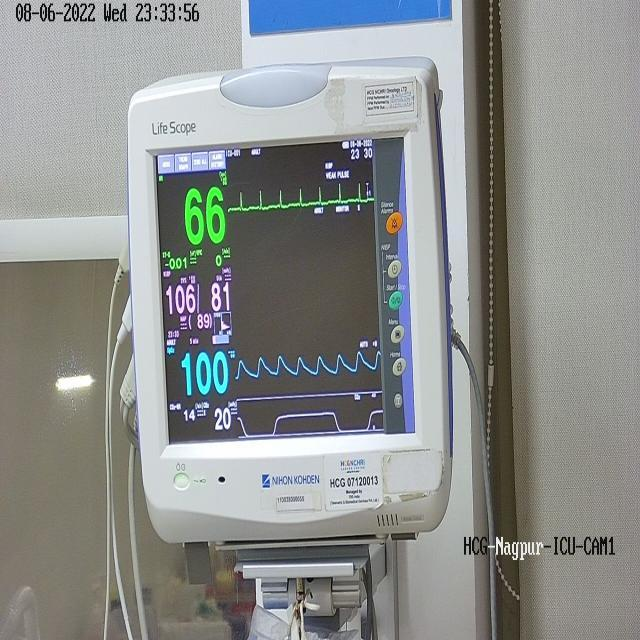Monitor: (125, 59, 453, 640)
